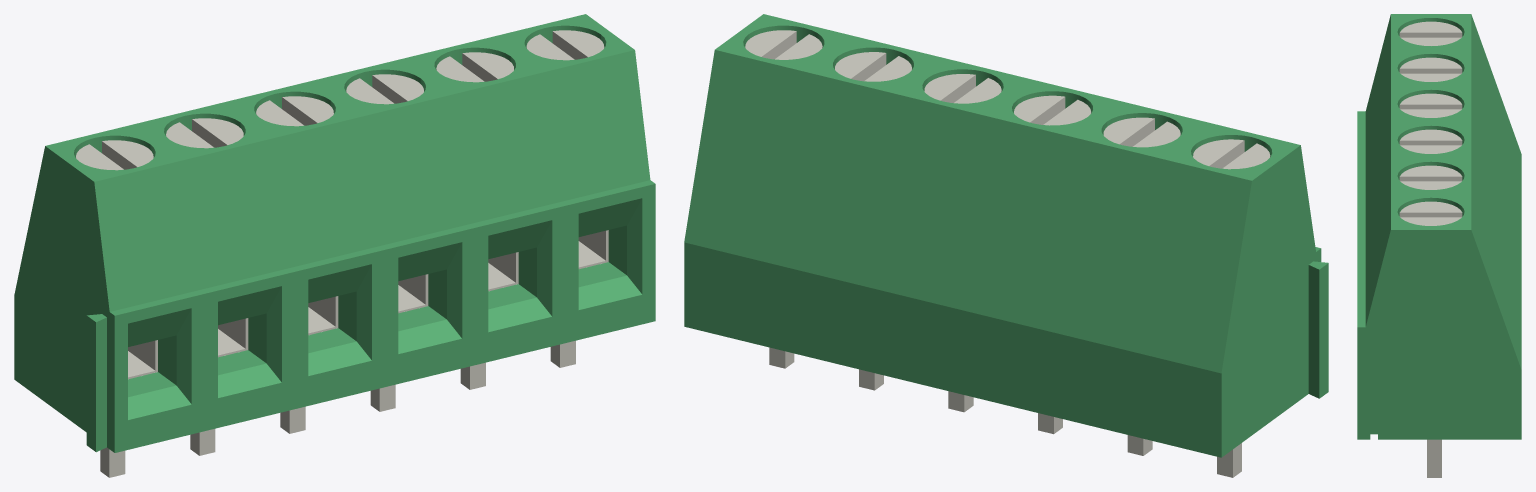
Rendered from kc-terminalblock_phoenix_mkds-1_5-6-5.08_1x06_p5.08mm_horizontal.glb.
The picture shows the model from 3 angles, left to right: view 1: azimuth 30°, elevation 25°; view 2: azimuth 150°, elevation 25°; view 3: azimuth 270°, elevation 25°; orthographic projection. The views are drawn at different scales.
Parts seen in each view (by area): view 1: 0.08333333333333333_0.4166666666666667_0.16666666666666666_0, 0.6666666666666666_0.6666666666666666_0.5833333333333334_0.8; view 2: 0.08333333333333333_0.4166666666666667_0.16666666666666666_0, 0.6666666666666666_0.6666666666666666_0.5833333333333334_0.8; view 3: 0.08333333333333333_0.4166666666666667_0.16666666666666666_0, 0.6666666666666666_0.6666666666666666_0.5833333333333334_0.8.
Boxes of the visible parts, bbox=[...] form: 0.08333333333333333_0.4166666666666667_0.16666666666666666_0: bbox=[14, 14, 655, 452]; 0.6666666666666666_0.6666666666666666_0.5833333333333334_0.8: bbox=[76, 30, 608, 477]; 0.08333333333333333_0.4166666666666667_0.16666666666666666_0: bbox=[684, 14, 1328, 457]; 0.6666666666666666_0.6666666666666666_0.5833333333333334_0.8: bbox=[745, 30, 1270, 477]; 0.08333333333333333_0.4166666666666667_0.16666666666666666_0: bbox=[1357, 14, 1521, 439]; 0.6666666666666666_0.6666666666666666_0.5833333333333334_0.8: bbox=[1399, 21, 1462, 477].
Size of the model in its own units: 3.12 by 1.73 by 0.9799.
